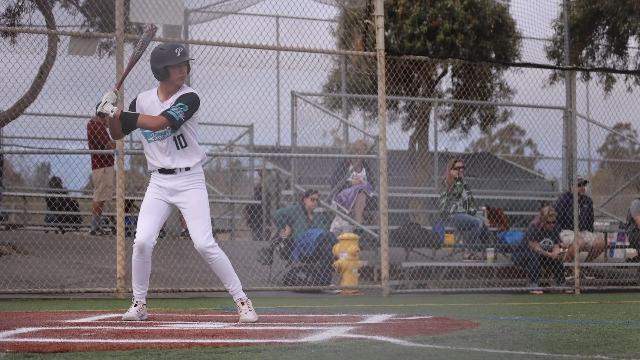bat: (115, 22, 158, 90)
